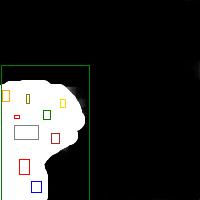halimeda: (1, 65, 89, 200), (14, 125, 38, 139), (19, 159, 29, 174), (31, 181, 41, 192), (51, 133, 59, 143), (2, 90, 9, 101), (5, 147, 13, 156), (43, 110, 50, 119), (60, 99, 65, 107), (26, 94, 29, 103), (14, 115, 19, 118)
